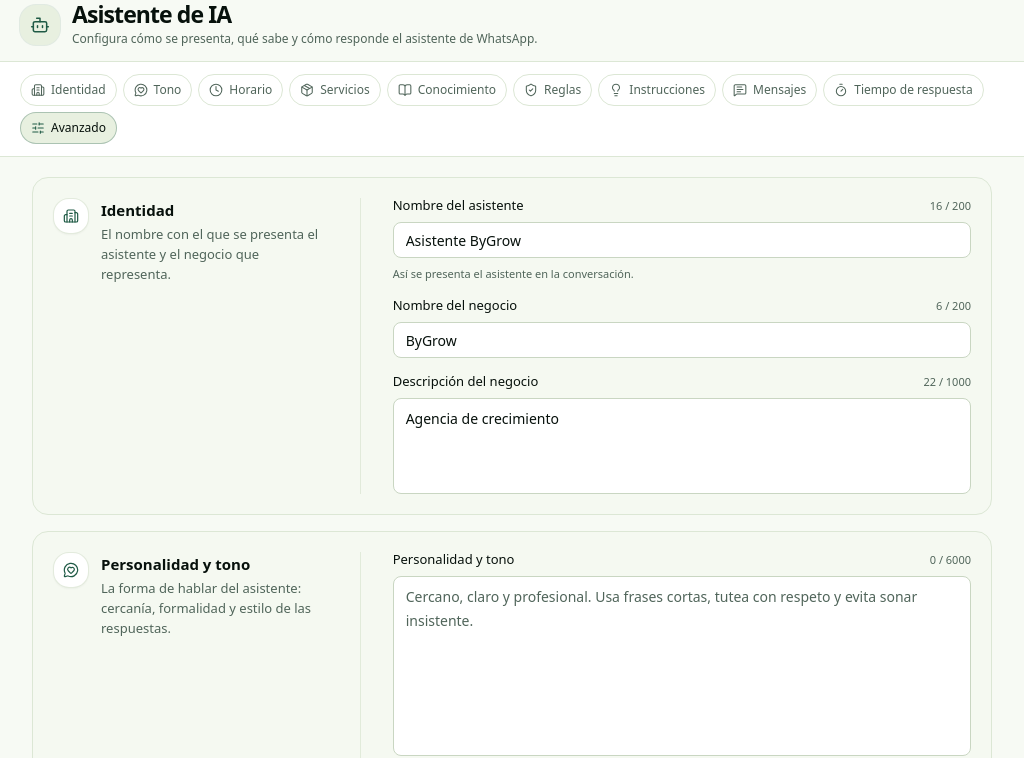
AiSettingsPage › muestra el aviso de permisos y conserva lo escrito ante un 403
Replace the text in the field labelled "Nombre del asistente" with "Asistente propio" at (682, 240), box [393,222,971,258]
(page scrolled)
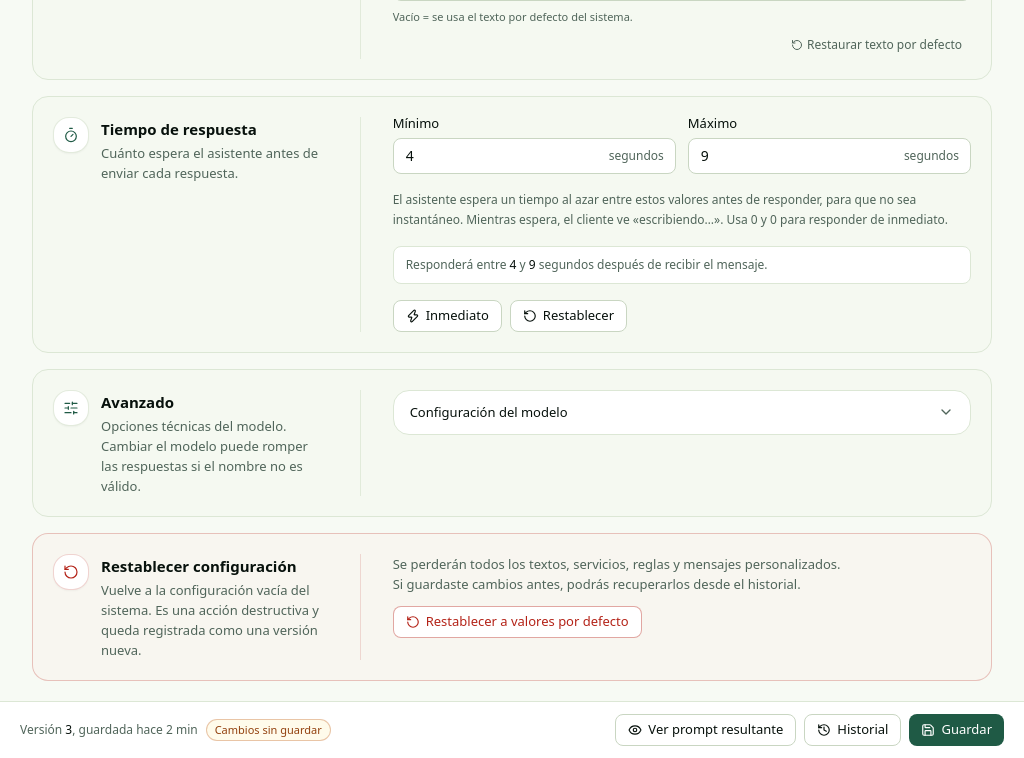
Click the button "Guardar" at (957, 730), box [909,714,1004,746]
(page scrolled)
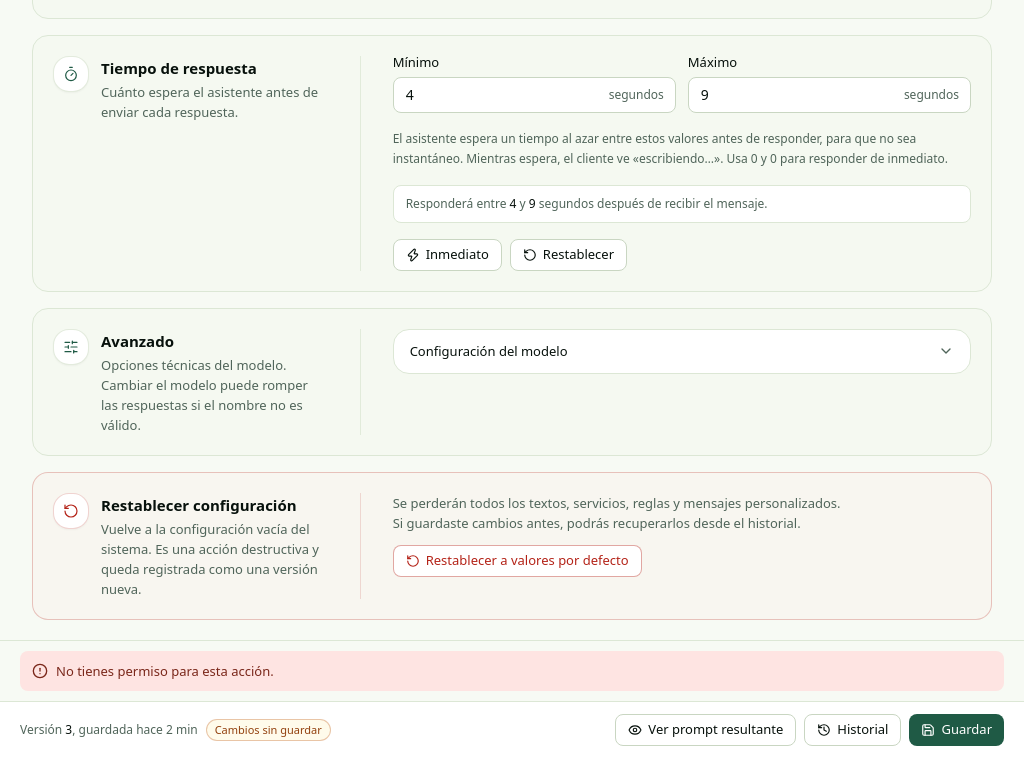
Now the button "Guardar" is enabled, box [909,714,1004,746]
Now the text "No tienes permiso para esta acción." is shown, box [56,661,274,681]
